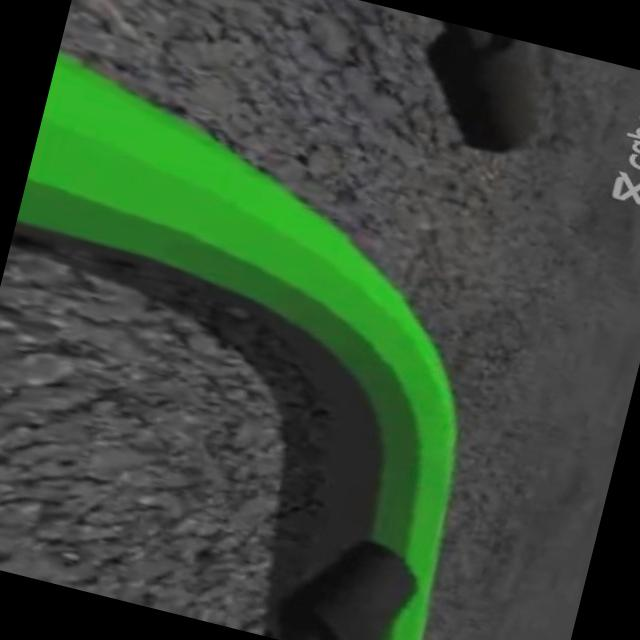gas: (2, 47, 504, 385), (239, 211, 513, 558)
